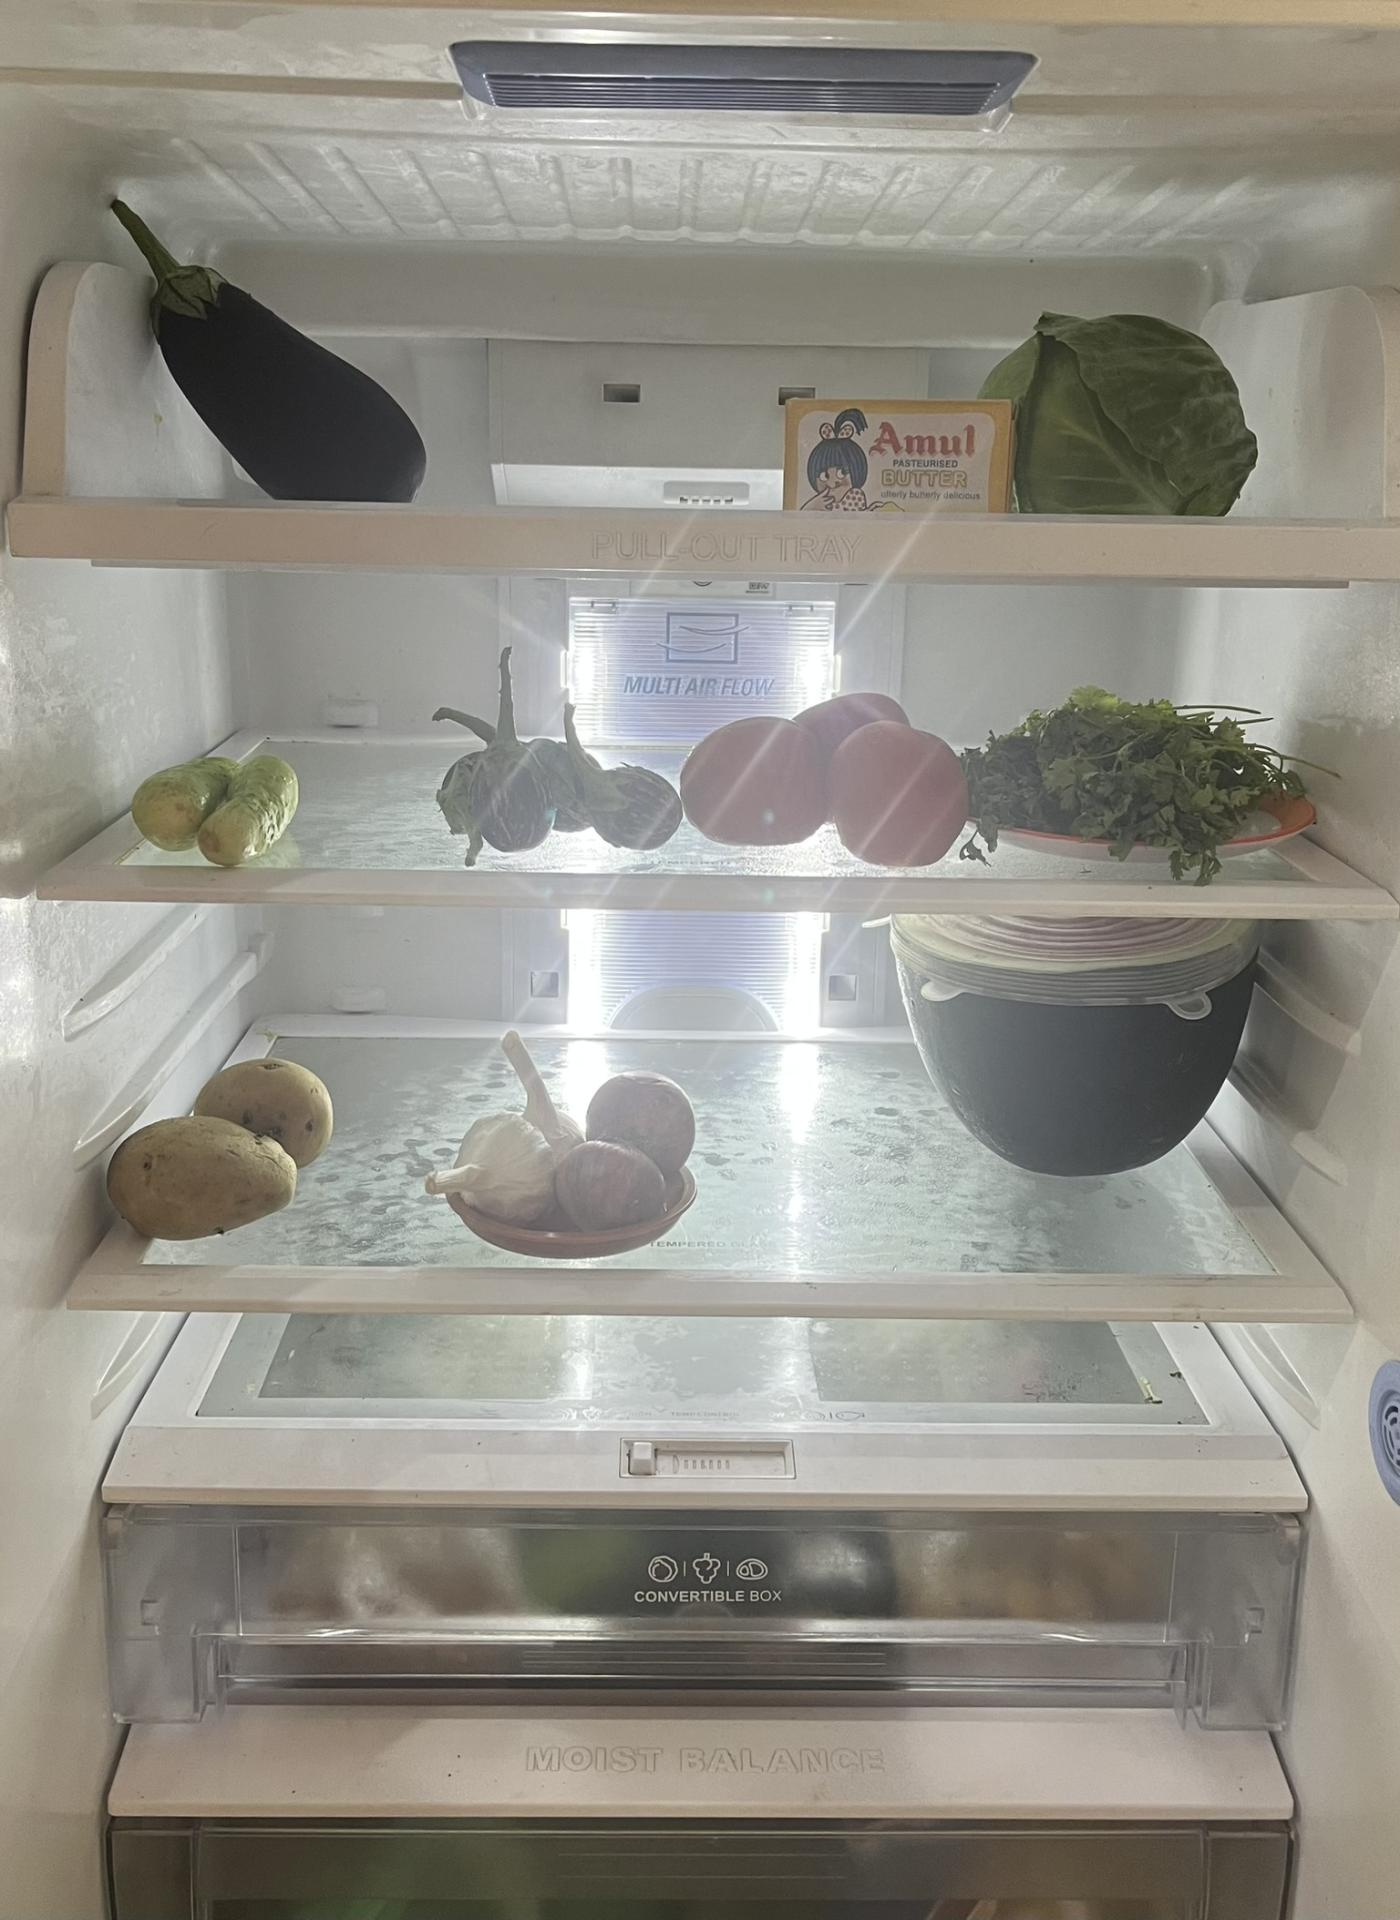brinjal: (104, 191, 423, 501), (446, 647, 686, 856)
butter: (789, 386, 1021, 510)
cabbage: (1003, 304, 1258, 513)
coriander: (969, 693, 1318, 848)
cucumber: (131, 748, 313, 866)
garlic: (432, 1051, 570, 1243)
onion: (565, 1078, 690, 1225)
potato: (110, 1048, 340, 1239)
tomato: (680, 675, 977, 854)
watermelon: (895, 909, 1270, 1187)
